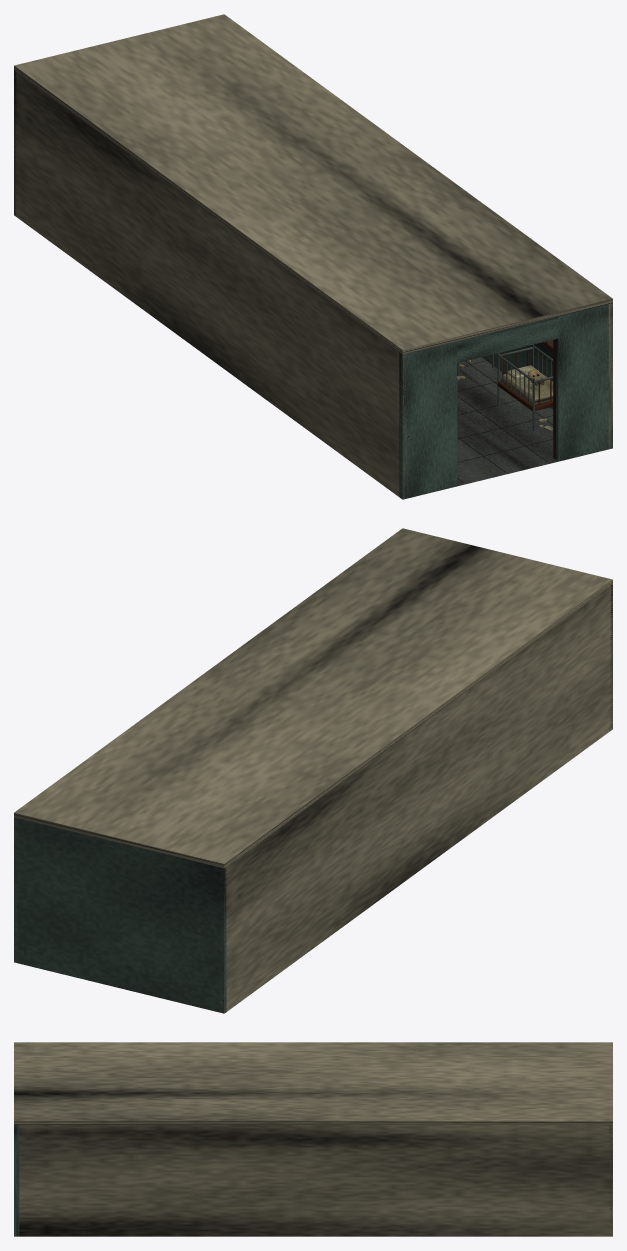
The model's file is nursery.glb.
3 views of the same model, one above another, from view 1: azimuth 30°, elevation 25°; view 2: azimuth 150°, elevation 25°; view 3: azimuth 270°, elevation 25° (orthographic). The views are drawn at different scales.
Parts seen in each view (by area): view 1: static-plaster, static-paint, static-stone, static-metal, static-rust, static-cloth; view 2: static-plaster, static-paint; view 3: static-plaster, static-paint.
Part boxes in pixels (x1,y1,x2,y2): static-plaster: [14, 14, 612, 499]; static-paint: [14, 70, 612, 499]; static-stone: [457, 357, 557, 486]; static-metal: [457, 344, 553, 431]; static-rust: [407, 339, 607, 459]; static-cloth: [501, 372, 553, 404]; static-plaster: [14, 528, 612, 1013]; static-paint: [14, 584, 612, 1013]; static-plaster: [14, 1042, 612, 1236]; static-paint: [14, 1124, 612, 1236].
Bounding box in the file's own units: 5 × 3.4 × 16.
14 materials, 10 textured.
